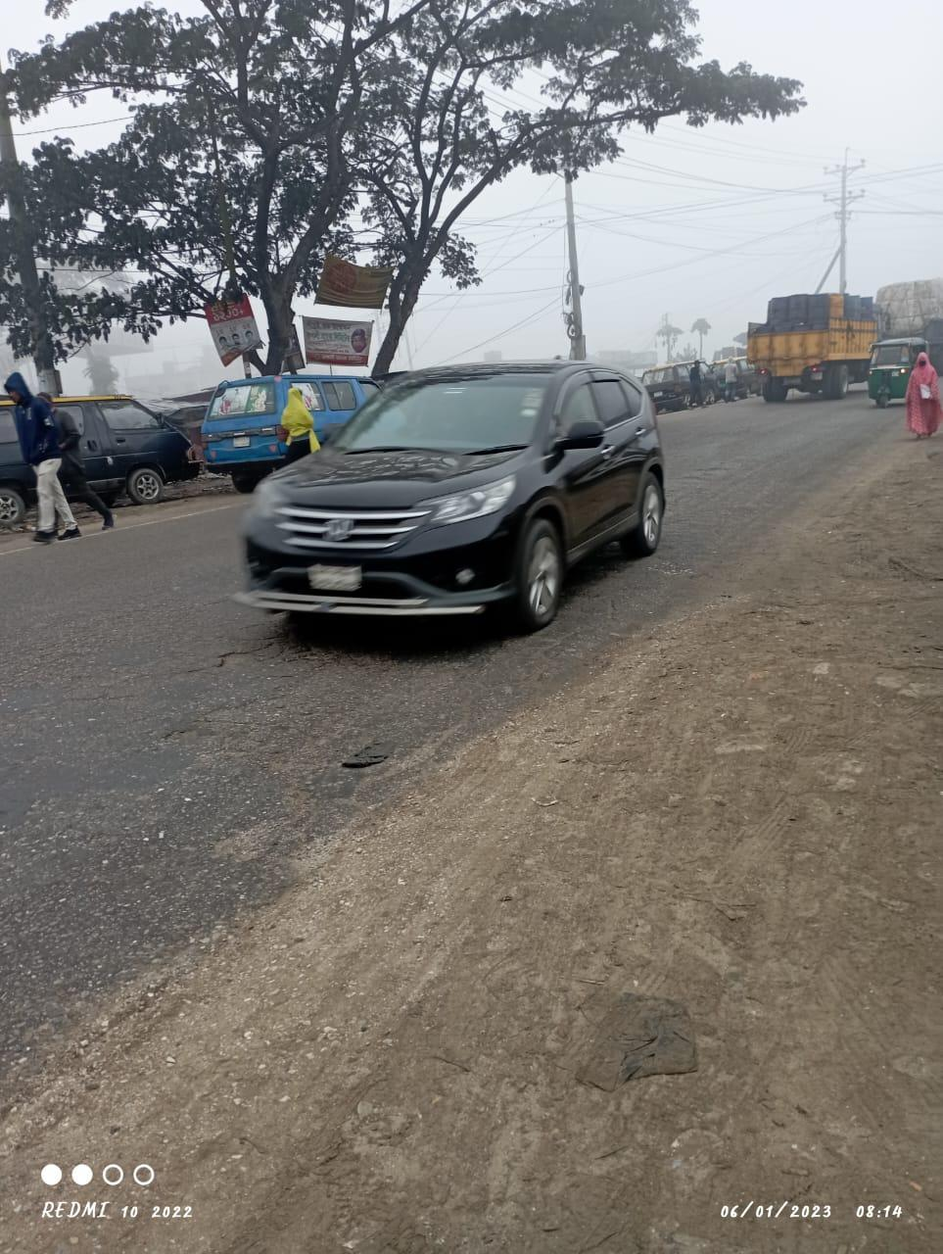Car: (224, 357, 674, 642), (5, 384, 196, 503), (197, 373, 361, 475)
Truck: (746, 290, 868, 400)
